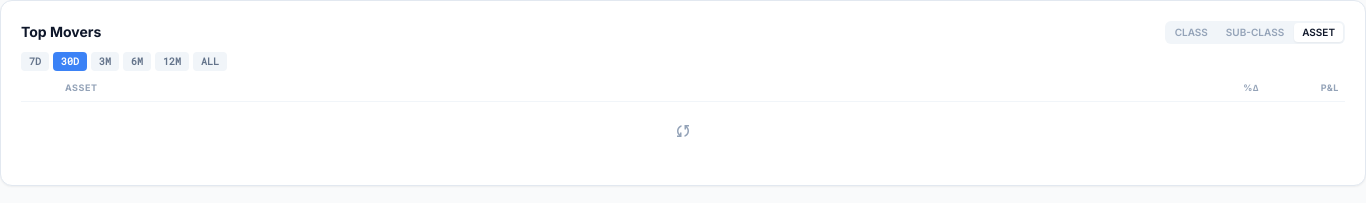
Scenario: Movers card › renders ~ prefix when window_covered is false
Click the button "7D" at x=35, y=62, box [21, 52, 49, 71]
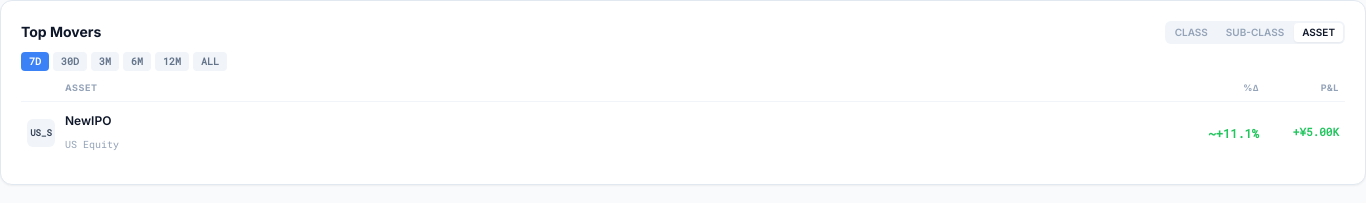
Now the text "~+11.1%" is shown, box [1209, 124, 1259, 140]
